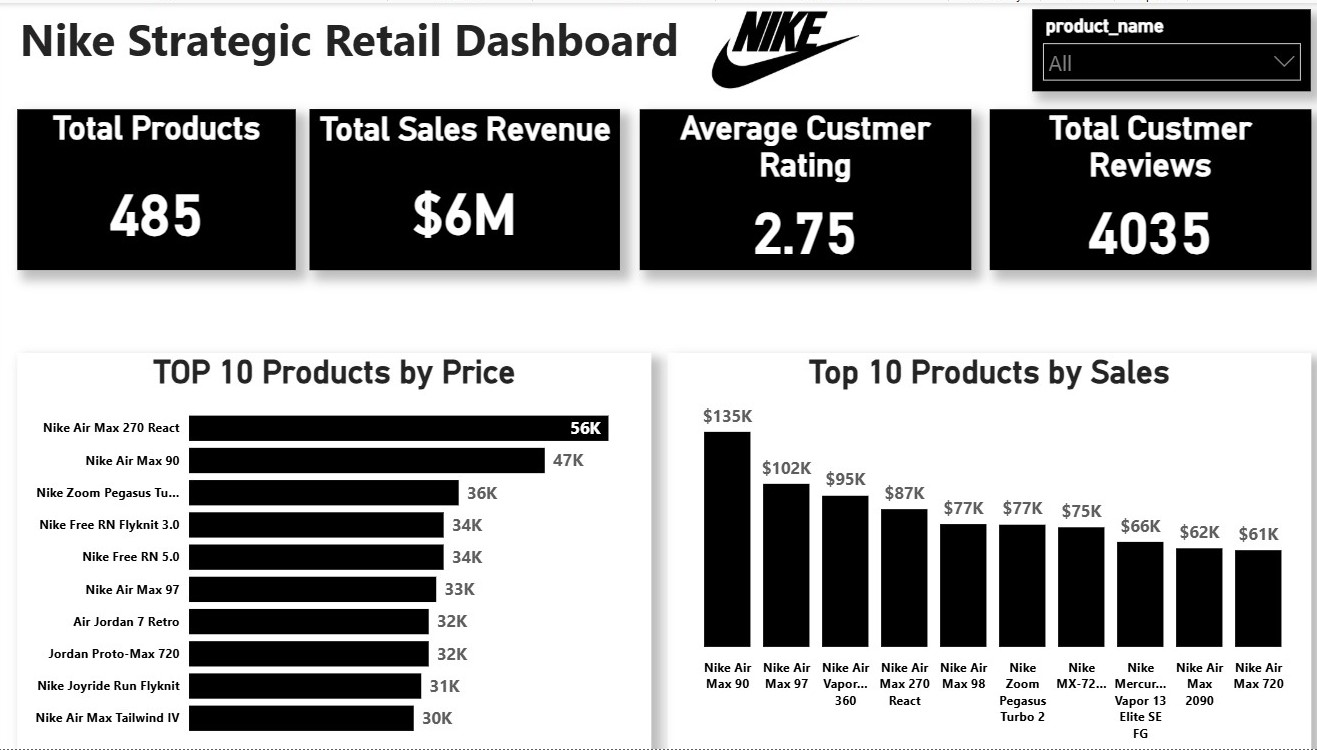

The dashboard page shown, as its layout file describes it:
{"tool":"powerbi","page":{"name":"Product Details","canvas":[1280,720],"ordinal":1},"visuals":[{"type":"card","title":"Total Products","fields":{"Values":["Count(nike_shoes_sales.product_id)"]},"box":[20.6,102.9,269,155.1],"z":0},{"type":"card","title":"Average Custmer Rating","fields":{"Values":["Avg(nike_shoes_sales.rating)"]},"box":[621.6,102.9,319.7,155.1],"z":1000},{"type":"card","title":"Total Sales Revenue","fields":{"Values":["Sum(nike_shoes_sales.sale_price)"]},"box":[303.3,102.9,299.1,155.1],"z":2000},{"type":"card","title":"Total Custmer Reviews","fields":{"Values":["Sum(nike_shoes_sales.reviews)"]},"box":[959.2,102.9,310.1,155.1],"z":3000},{"type":"clusteredColumnChart","title":"Top 10 Products by Sales","fields":{"Category":["nike_shoes_sales.product_name"],"Y":["Sum(nike_shoes_sales.sale_price)"]},"box":[647.7,337.6,621.6,382.8],"z":4000},{"type":"barChart","title":"TOP 10 Products by Price ","fields":{"Category":["nike_shoes_sales.product_name"],"Y":["Sum(nike_shoes_sales.listing_price)"]},"box":[20.6,337.6,612,382.8],"z":5000},{"type":"slicer","fields":{"Values":["nike_shoes_sales.product_name"]},"box":[1000.3,5.5,269,79.6],"z":6000},{"type":"image","box":[621.6,0,281.3,90.6],"z":7000},{"type":"textbox","box":[9.6,0,662.8,79.6],"z":7001}]}

Visuals, with their boxes in screenshot pixels (x1, y1, x2, y2), scaled from the page's 1280x720 canvas onto the 1317x750 screenshot:
"Total Products" card: [x1=21, y1=107, x2=298, y2=269]
"Average Custmer Rating" card: [x1=640, y1=107, x2=969, y2=269]
"Total Sales Revenue" card: [x1=312, y1=107, x2=620, y2=269]
"Total Custmer Reviews" card: [x1=987, y1=107, x2=1306, y2=269]
"Top 10 Products by Sales" clusteredColumnChart: [x1=666, y1=352, x2=1306, y2=749]
"TOP 10 Products by Price " barChart: [x1=21, y1=352, x2=651, y2=749]
slicer - nike_shoes_sales.product_name: [x1=1029, y1=6, x2=1306, y2=89]
image: [x1=640, y1=0, x2=929, y2=94]
textbox: [x1=10, y1=0, x2=692, y2=83]
